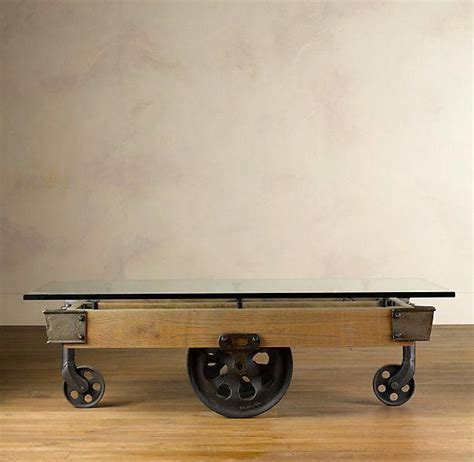Carts: (22, 276, 457, 409)
